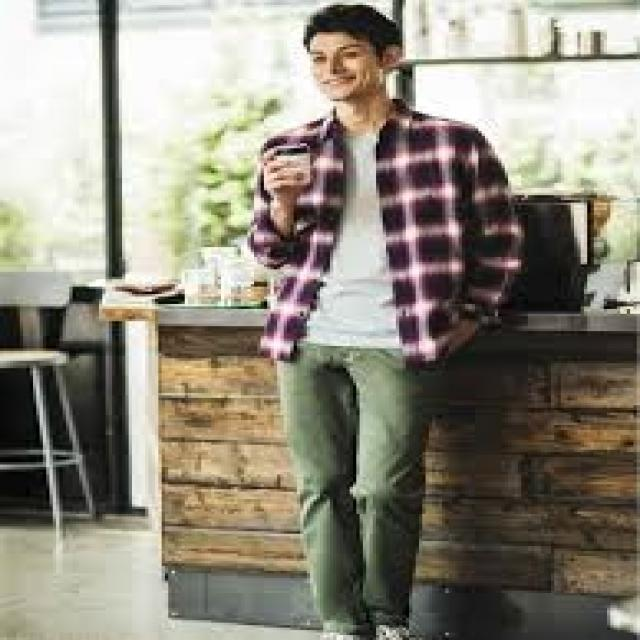plaid: (200, 120, 546, 348)
